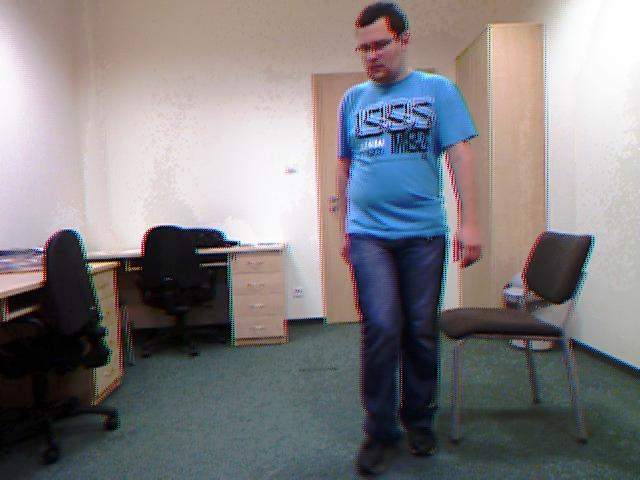walking: (332, 3, 486, 480)
